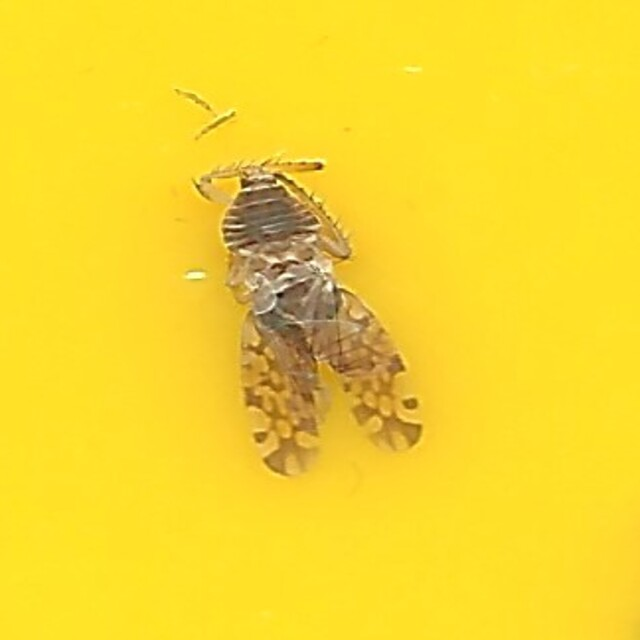Hemiptera: (198, 159, 442, 481)
